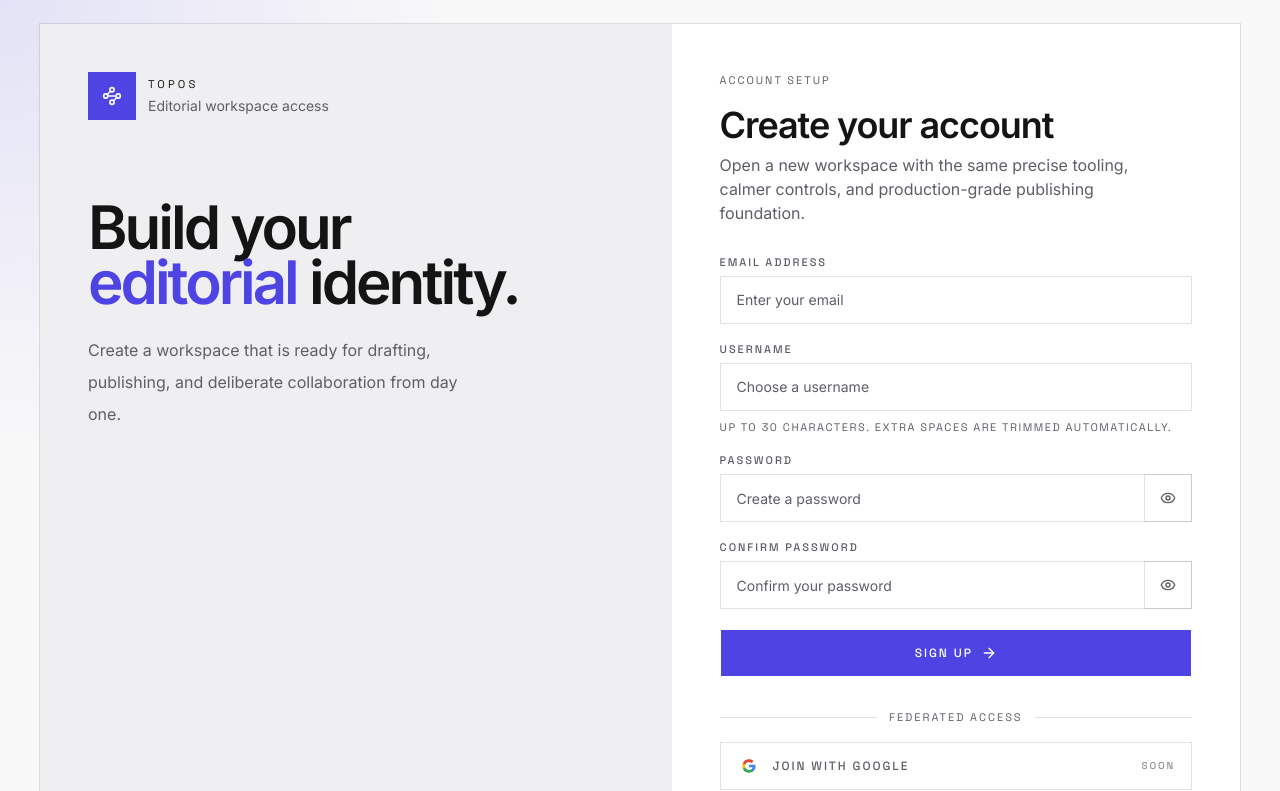
Test case: Signup › shows validation errors on empty submit
Step 1. Click the button "Sign Up" → (956, 653), box [720,629,1192,677]
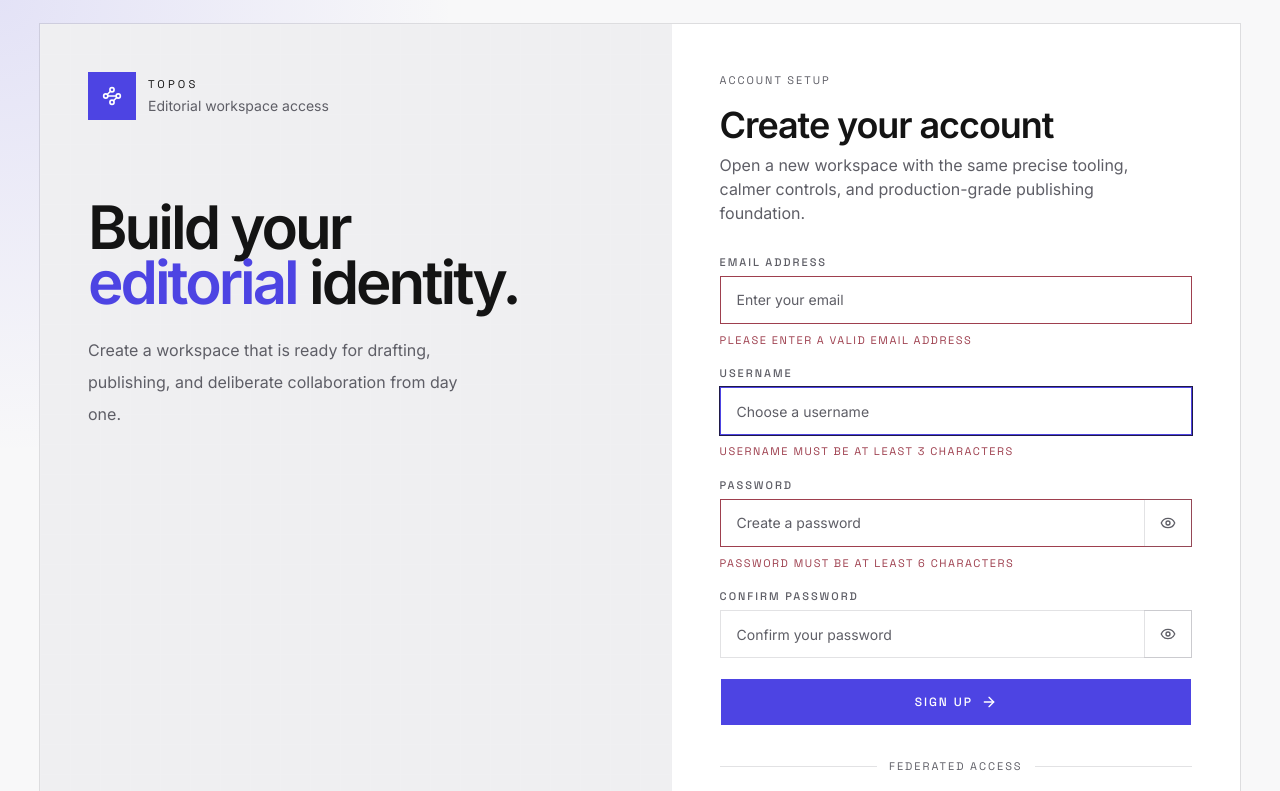
Now the text "Please enter a valid email address" is shown, box [720,332,972,346]
Now the text "Username must be at least 3 characters" is shown, box [720,444,1014,458]
Now the text "Password must be at least 6 characters" is shown, box [720,556,1014,570]
